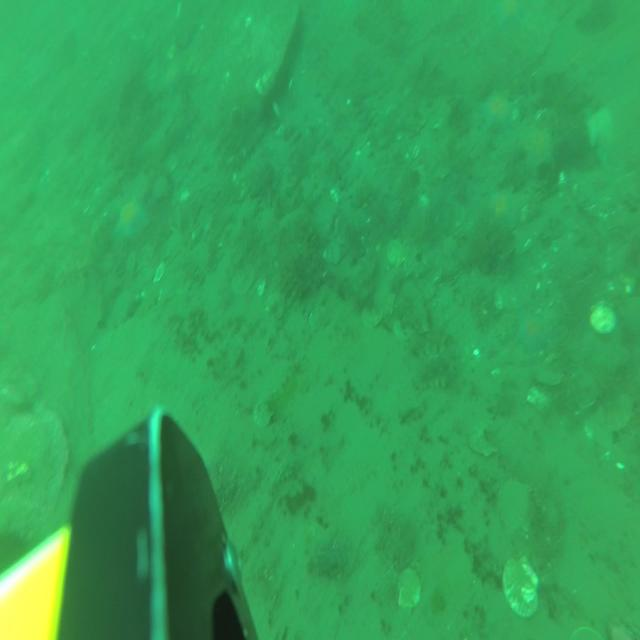holothurian: (412, 345, 458, 389)
scallop: (504, 553, 540, 617), (498, 478, 530, 532), (396, 566, 421, 613), (470, 417, 498, 458), (590, 298, 616, 336), (255, 398, 275, 429), (386, 237, 404, 266)
starfish: (114, 197, 150, 244), (489, 186, 523, 234), (523, 128, 556, 174), (588, 106, 618, 151), (518, 314, 548, 355), (482, 90, 512, 130)
